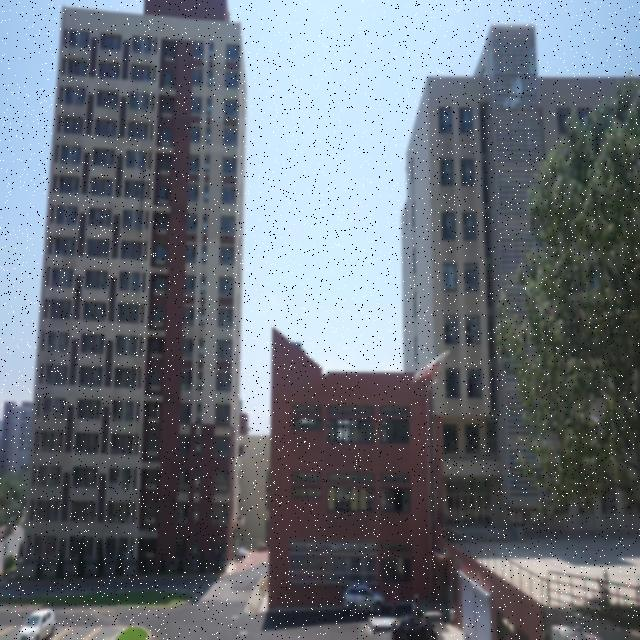UAV: (412, 350, 450, 389)
